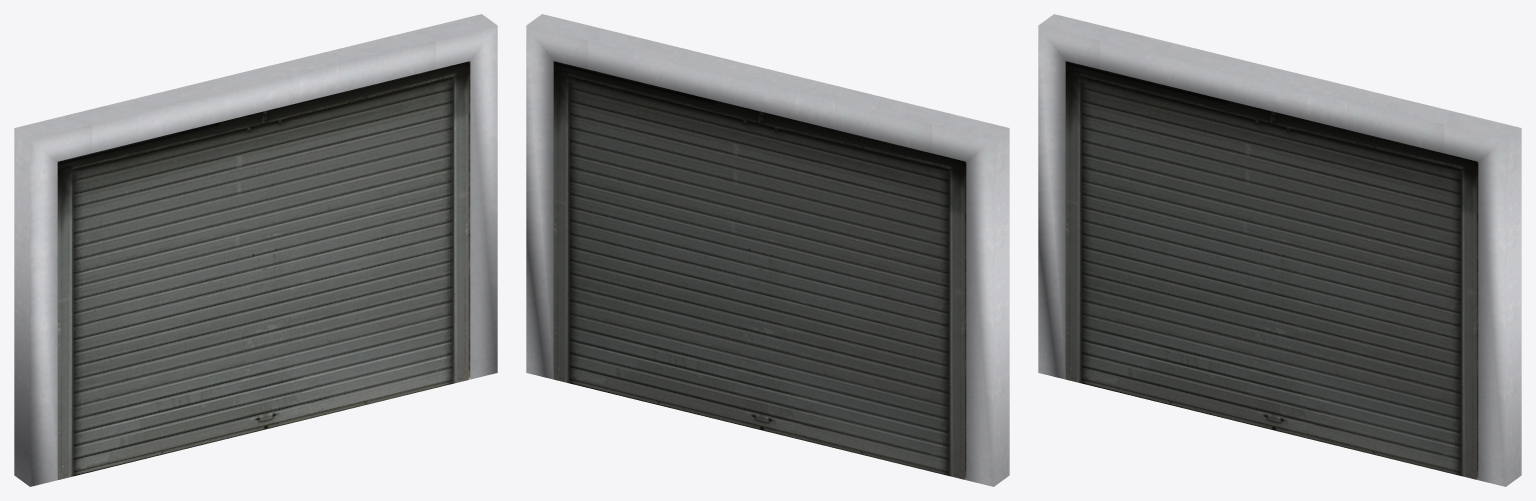
Rendered from door.glb.
The picture shows the model from 3 angles, left to right: view 1: azimuth 30°, elevation 25°; view 2: azimuth 150°, elevation 25°; view 3: azimuth 330°, elevation 25°; orthographic projection.
Visible parts, largest first — view 1: JZM卷闸门; view 2: JZM卷闸门; view 3: JZM卷闸门.
Boxes of the visible parts, box(x1,y1,x2,y2) form: JZM卷闸门: box(14, 14, 497, 486); JZM卷闸门: box(526, 14, 1009, 486); JZM卷闸门: box(1038, 14, 1521, 486).
Size of the model in its own units: 6.91 by 4.9 by 0.4069.
Materials: 2 (2 with a texture image).
